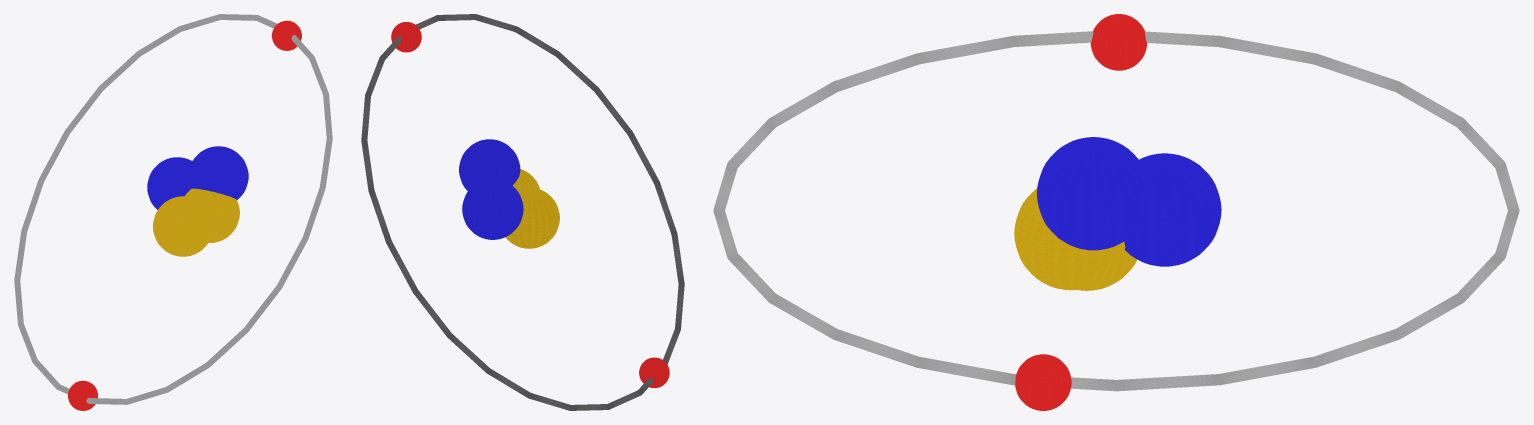
Rendered from heliumatom.fbx.
3 views of the same model, side by side, from view 1: azimuth 30°, elevation 25°; view 2: azimuth 150°, elevation 25°; view 3: azimuth 270°, elevation 25° (orthographic). The views are drawn at different scales.
Parts seen in each view (by area): view 1: node_id7, node_id5, node_id11, node_id9, node_id17, node_id13, node_id15; view 2: node_id7, node_id17, node_id5, node_id11, node_id15, node_id13, node_id9; view 3: node_id7, node_id5, node_id17, node_id9, node_id15, node_id13.
Boxes of the visible parts, <box> form: node_id7: <box>14,14,332,404</box>; node_id5: <box>188,146,248,199</box>; node_id11: <box>153,196,207,256</box>; node_id9: <box>184,188,239,242</box>; node_id17: <box>147,157,192,209</box>; node_id13: <box>271,20,301,50</box>; node_id15: <box>68,380,98,410</box>; node_id7: <box>361,14,684,410</box>; node_id17: <box>462,178,523,239</box>; node_id5: <box>459,139,520,190</box>; node_id11: <box>505,188,559,248</box>; node_id15: <box>639,357,669,388</box>; node_id13: <box>391,22,421,52</box>; node_id9: <box>512,169,539,193</box>; node_id7: <box>713,31,1519,391</box>; node_id5: <box>1037,137,1150,250</box>; node_id17: <box>1124,153,1221,266</box>; node_id9: <box>1014,188,1125,290</box>; node_id15: <box>1015,354,1071,410</box>; node_id13: <box>1090,14,1147,70</box>.
Bounding box in the file's own units: 0.3 × 0.3645 × 0.4461.
